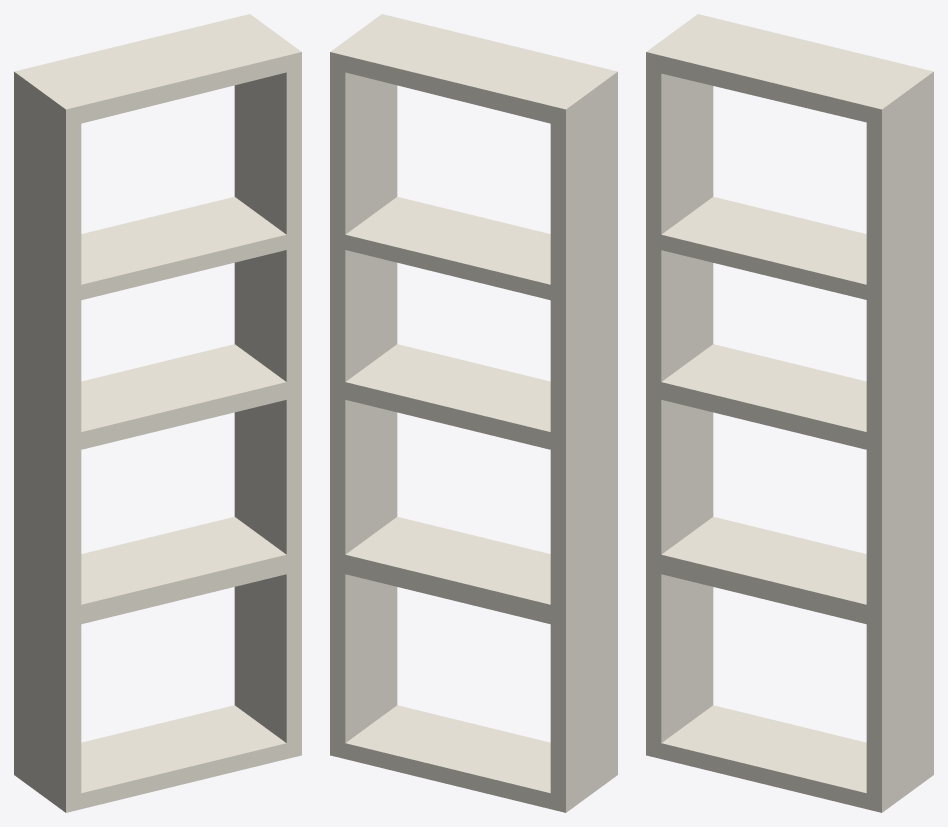
The model's file is library_01.FBX.
The picture shows the model from 3 angles, left to right: view 1: azimuth 30°, elevation 25°; view 2: azimuth 150°, elevation 25°; view 3: azimuth 330°, elevation 25°; orthographic projection.
Parts seen in each view (by area): view 1: Box042; view 2: Box042; view 3: Box042.
Boxes of the visible parts, box(x1,y1,x2,y2) form: Box042: box(14, 14, 301, 812); Box042: box(330, 14, 617, 812); Box042: box(646, 14, 933, 812).
Bounding box in the file's own units: 98.33 × 280 × 37.46.
